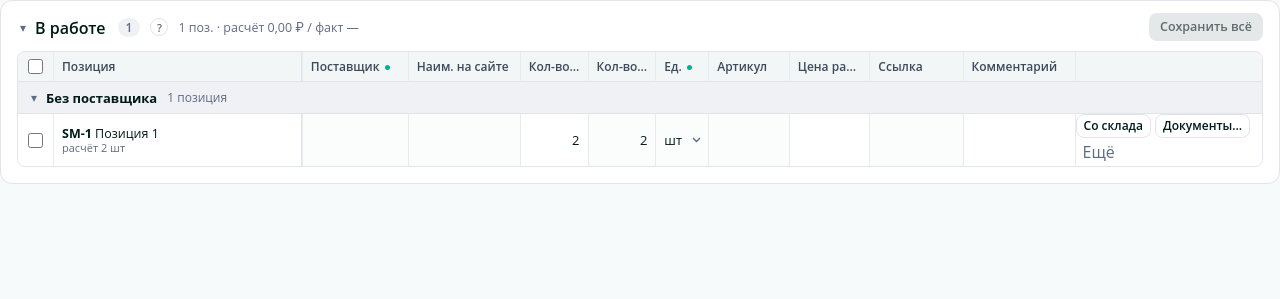
Test: on a touch screen puts the secondary row actions into an «Ещё» menu: opens, lists them, runs one, closes on Esc
Click the button with aria-label "Ещё: Действия SM-1".
click(1099, 152)  # box [1076,138,1122,166]
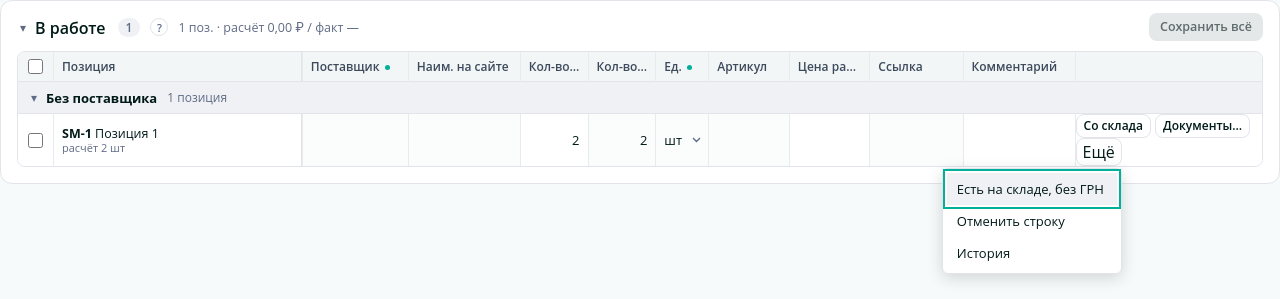
Check: the menu items read "Есть на складе, без ГРН", "Отменить строку", "История", in this order, box [947,173,1117,205]; [947,205,1117,237]; [947,237,1117,269]
Press Escape
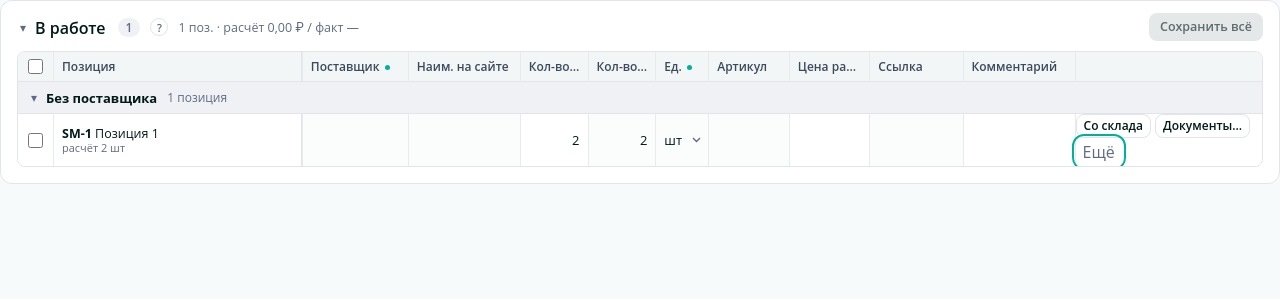
Check: the menu is gone
Click the button with aria-label "Ещё: Действия SM-1".
click(1099, 152)  # box [1076,138,1122,166]
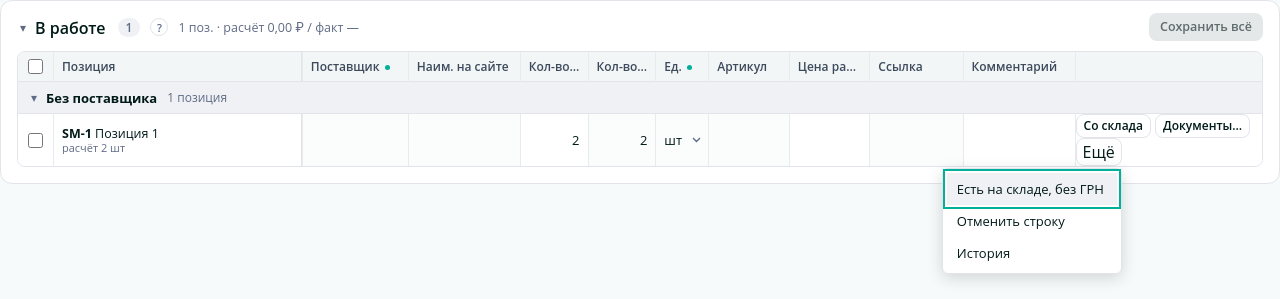
Click the menu item "Отменить строку".
click(1032, 221)  # box [947,205,1117,237]
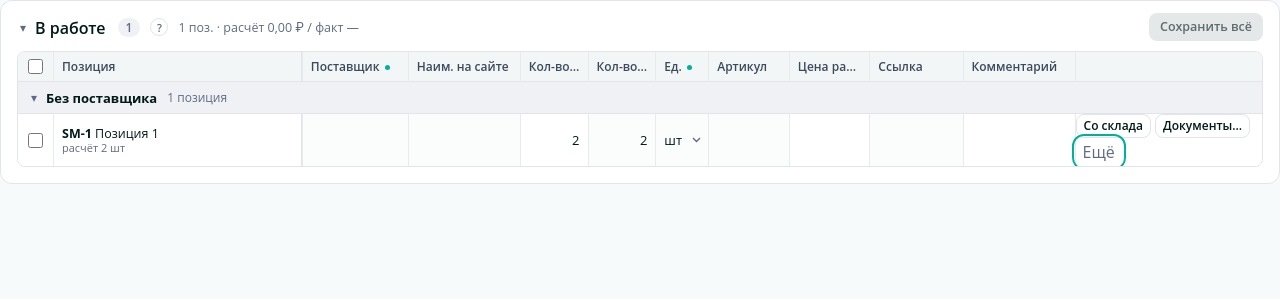
Check: the menu is gone
